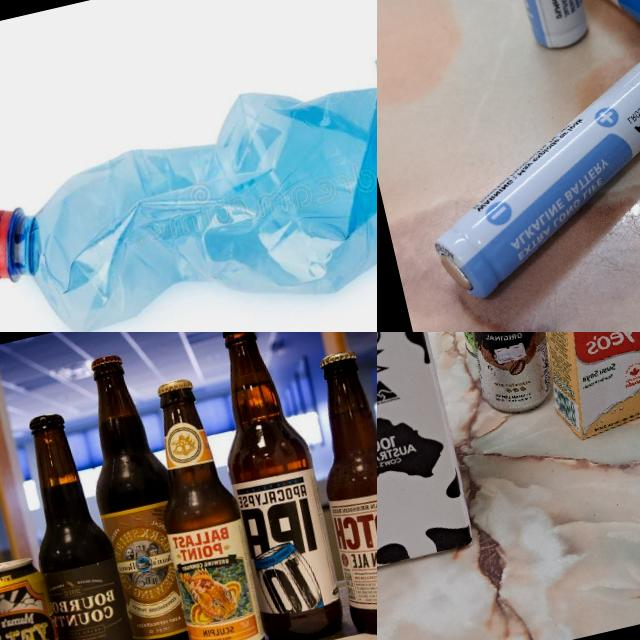bateria: (403, 53, 640, 308), (470, 0, 596, 55)
caixinha: (377, 332, 481, 585), (516, 332, 640, 445)
garrafa de vidro: (194, 332, 351, 640), (65, 347, 208, 640), (131, 371, 276, 640), (5, 407, 143, 640), (293, 343, 377, 640)
garrafa plástica: (0, 27, 377, 332)
lata: (437, 332, 578, 421), (0, 553, 78, 640)
tampa plástica: (0, 202, 15, 285)
